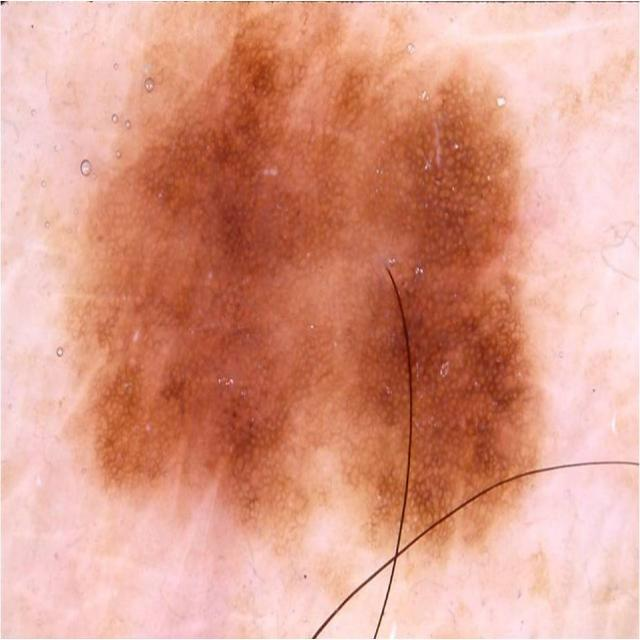Benign: (59, 0, 547, 565)
